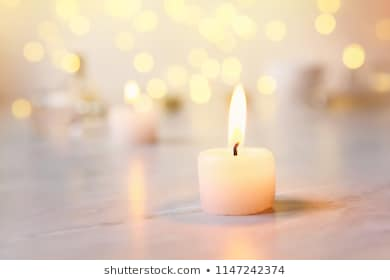Fire: (226, 80, 248, 149)
